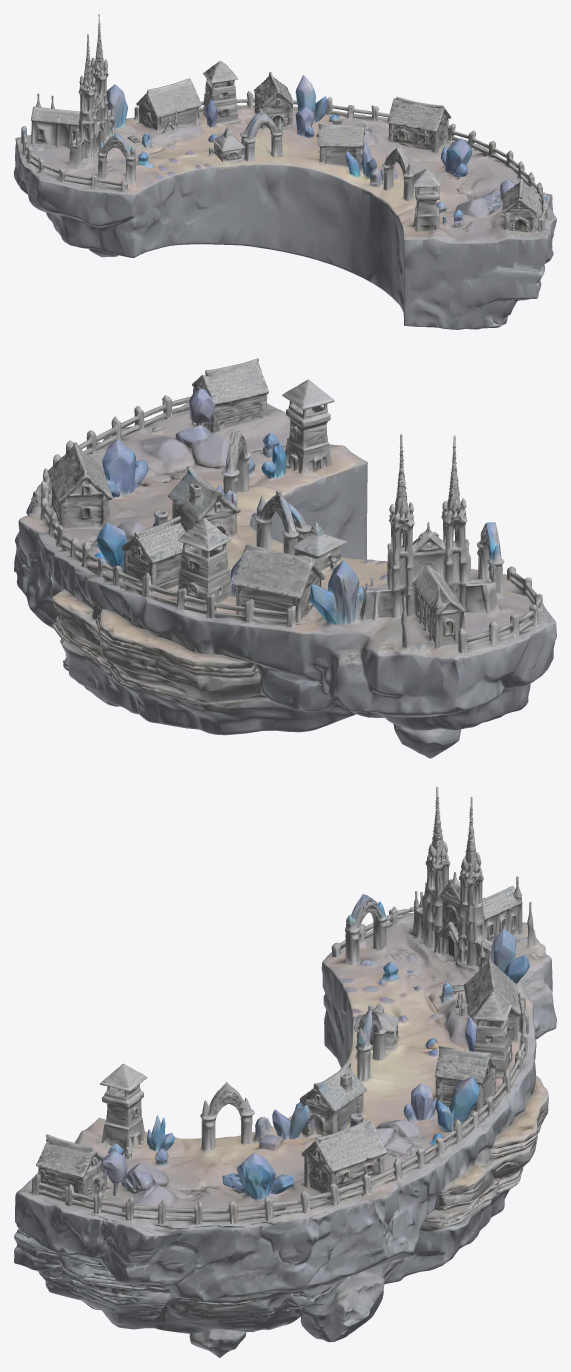
The model's file is heaven.glb.
The picture shows the model from 3 angles, top to bottom: view 1: azimuth 30°, elevation 25°; view 2: azimuth 150°, elevation 25°; view 3: azimuth 270°, elevation 25°; orthographic projection. The views are drawn at different scales.
Visible parts, largest first — view 1: vizcom_node_0; view 2: vizcom_node_0; view 3: vizcom_node_0.
Boxes of the visible parts, left/top/right/bottom form: vizcom_node_0: left=14, top=14, right=556, bottom=329; vizcom_node_0: left=14, top=358, right=556, bottom=758; vizcom_node_0: left=14, top=787, right=556, bottom=1357.
Size of the model in its own units: 1.43 by 0.9997 by 1.23.
1 material, 1 textured.
